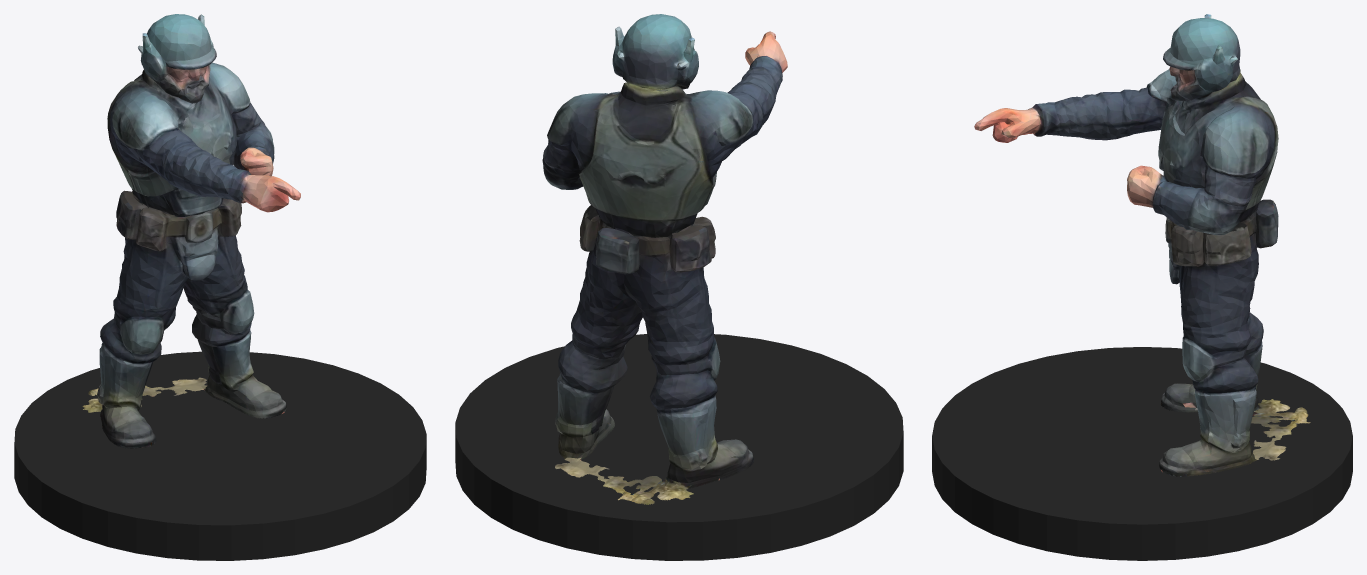
Rendered from knight@long.glb.
3 views of the same model, side by side, from view 1: azimuth 30°, elevation 25°; view 2: azimuth 150°, elevation 25°; view 3: azimuth 270°, elevation 25° (orthographic). The views are drawn at different scales.
Parts seen in each view (by area): view 1: base, figure; view 2: base, figure; view 3: base, figure.
Part boxes in pixels (<box>): base: <box>14,351,426,560</box>; figure: <box>82,14,300,448</box>; base: <box>455,334,903,560</box>; figure: <box>542,14,787,504</box>; base: <box>932,347,1352,560</box>; figure: <box>974,14,1310,476</box>.
Size of the model in its own units: 1.26 by 1.47 by 1.26.
2 materials, 1 textured.
